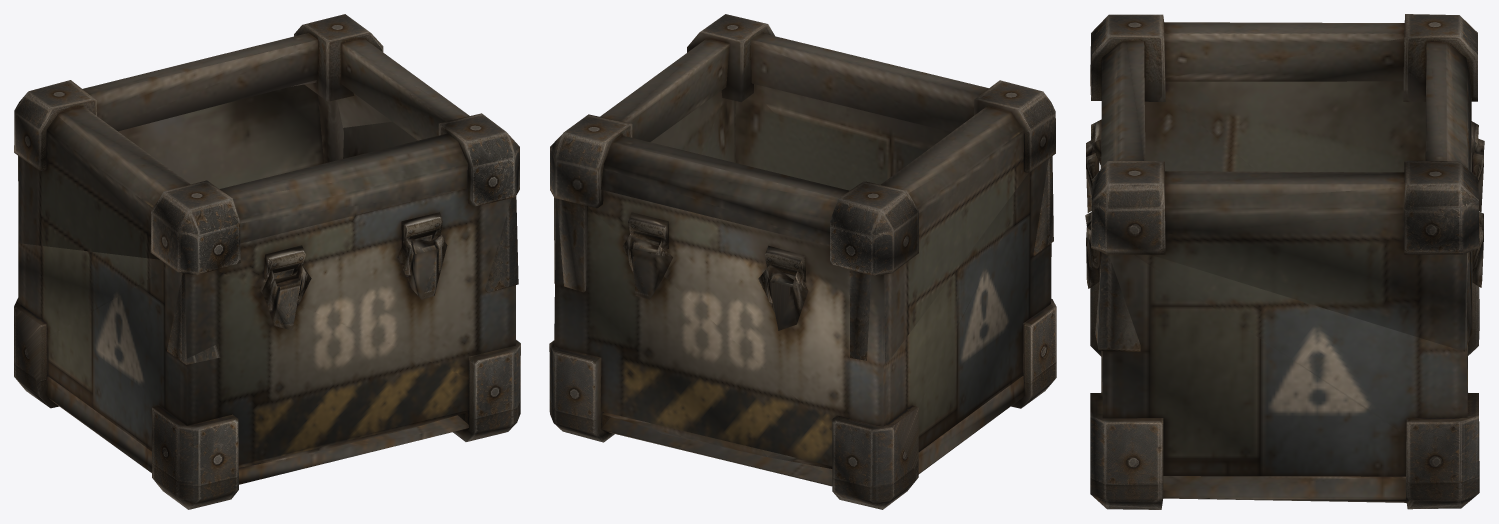
Rendered from Finished Crate.glb.
3 renders of one model, left to right at view 1: azimuth 30°, elevation 25°; view 2: azimuth 150°, elevation 25°; view 3: azimuth 270°, elevation 25°, orthographic. The views are drawn at different scales.
Bounding box in the file's own units: 2 × 1.68 × 1.86.
1 material, 1 textured.
